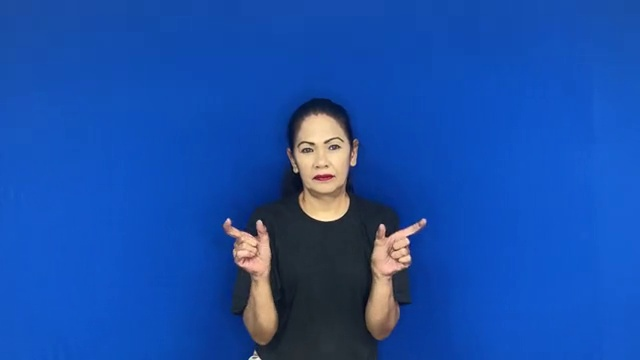crab: (215, 209, 438, 283)
